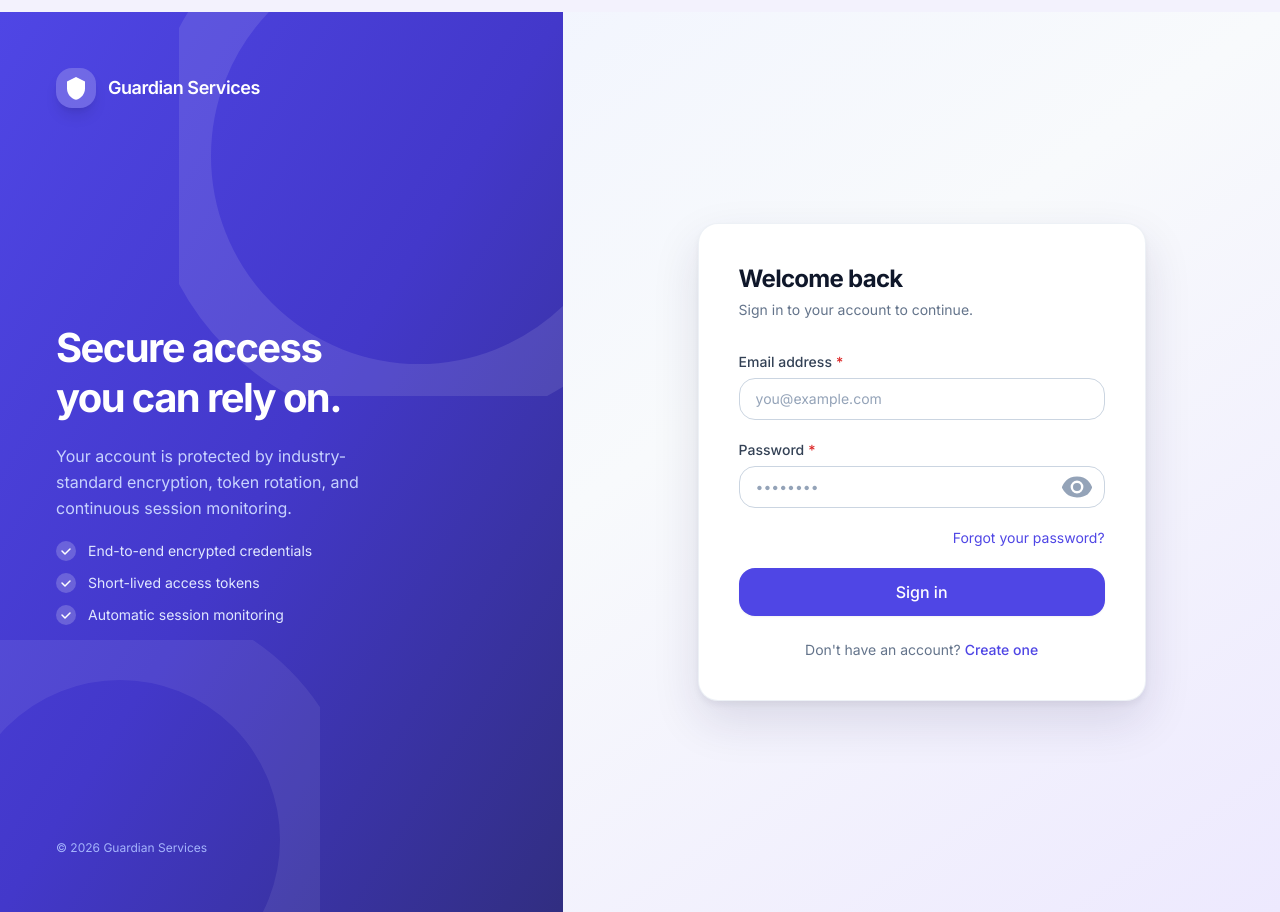
Test case: LoginPage › shows validation error for malformed email
The image size is (1280, 912).
In the field labelled "Email address*": (922, 399) [739,378,1105,420], type "not-an-email"
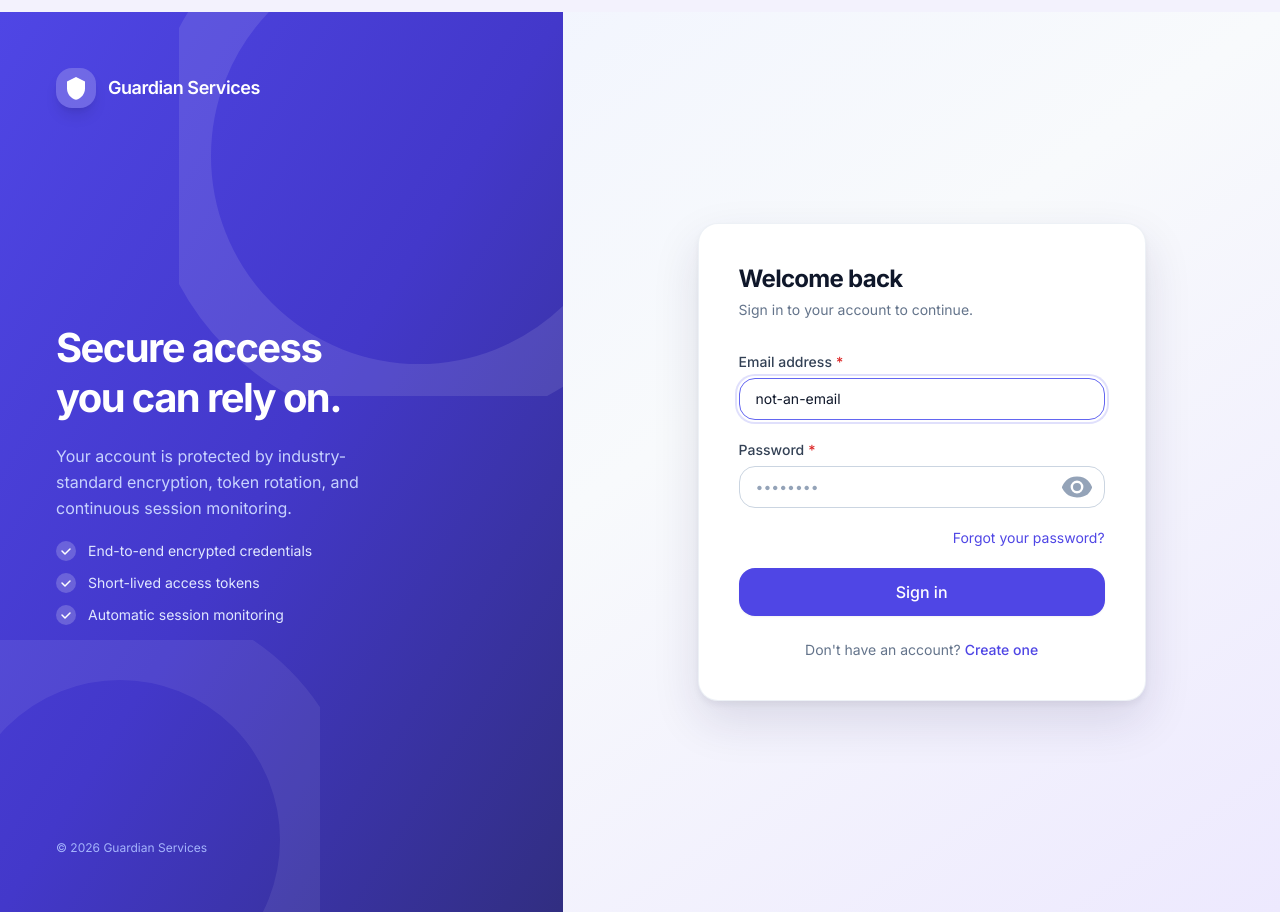
In the password field labelled "Password*": (922, 487) [739,466,1105,508], type "pass"
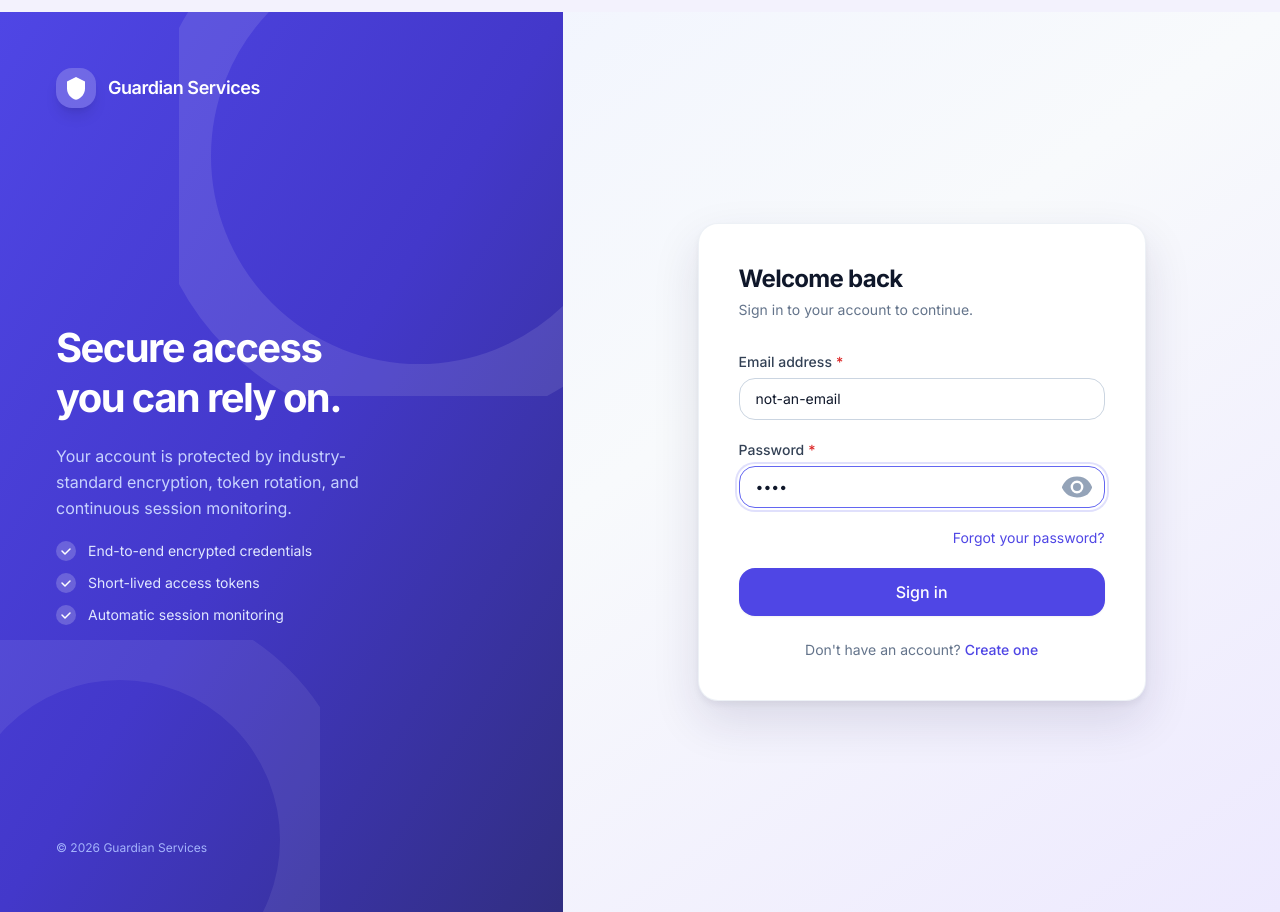
Click the button "Sign in": click(922, 592) [739,568,1105,616]
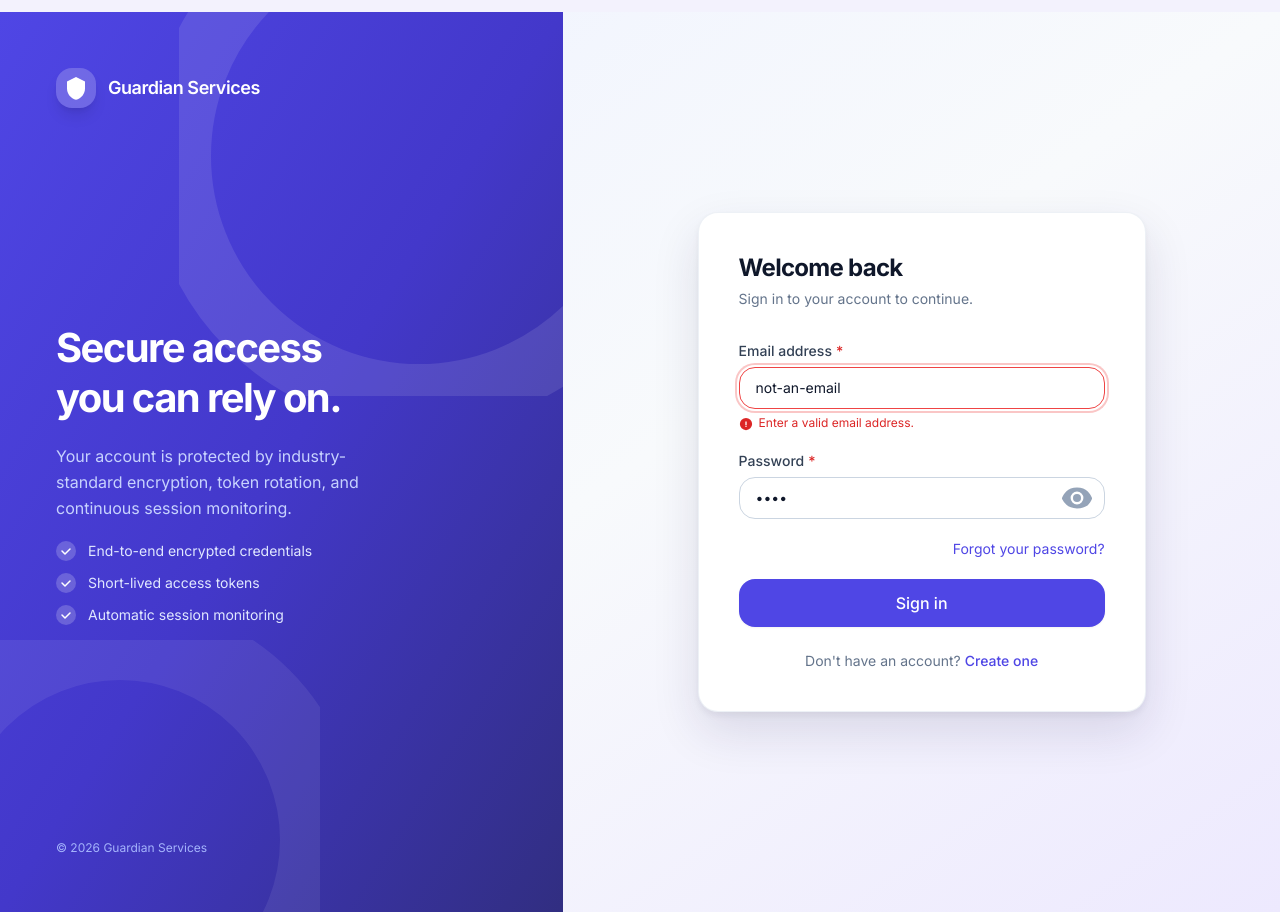
Result: the text "Enter a valid email address." is shown at [739,415,914,431]
